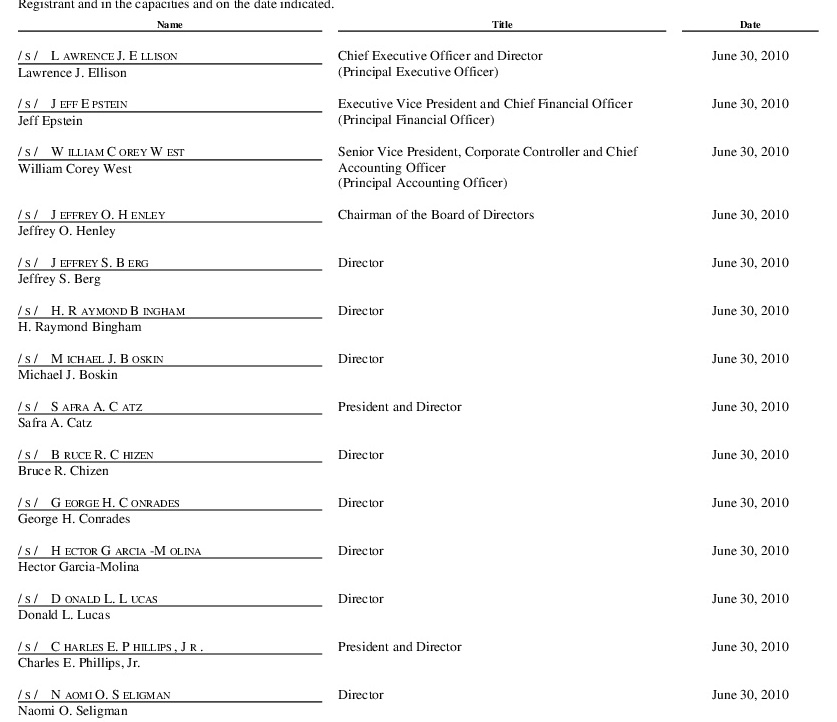table: (0, 0, 837, 722)
